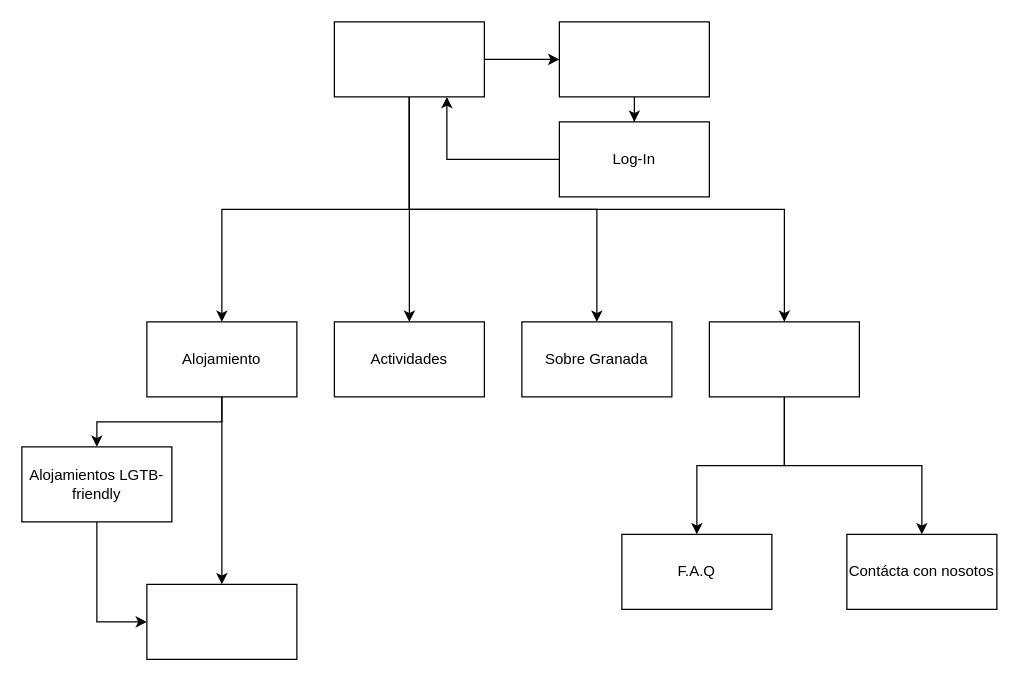
The diagram is 1019 pixels wide and 681 high, and some of its shapes have lost their labels. The shapes that lost their labels are listed below. From the top down, each one's centre as x and y in pixels, then its label:
the point at 408,59: Página Principal
the point at 633,59: Creación de Usuario
the point at 783,359: Ayuda
the point at 221,621: Reserva de Alojameinto
